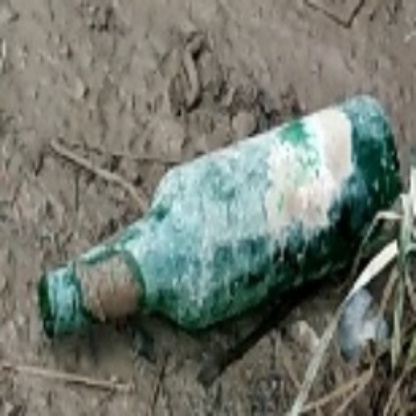bottle: (37, 93, 402, 337)
